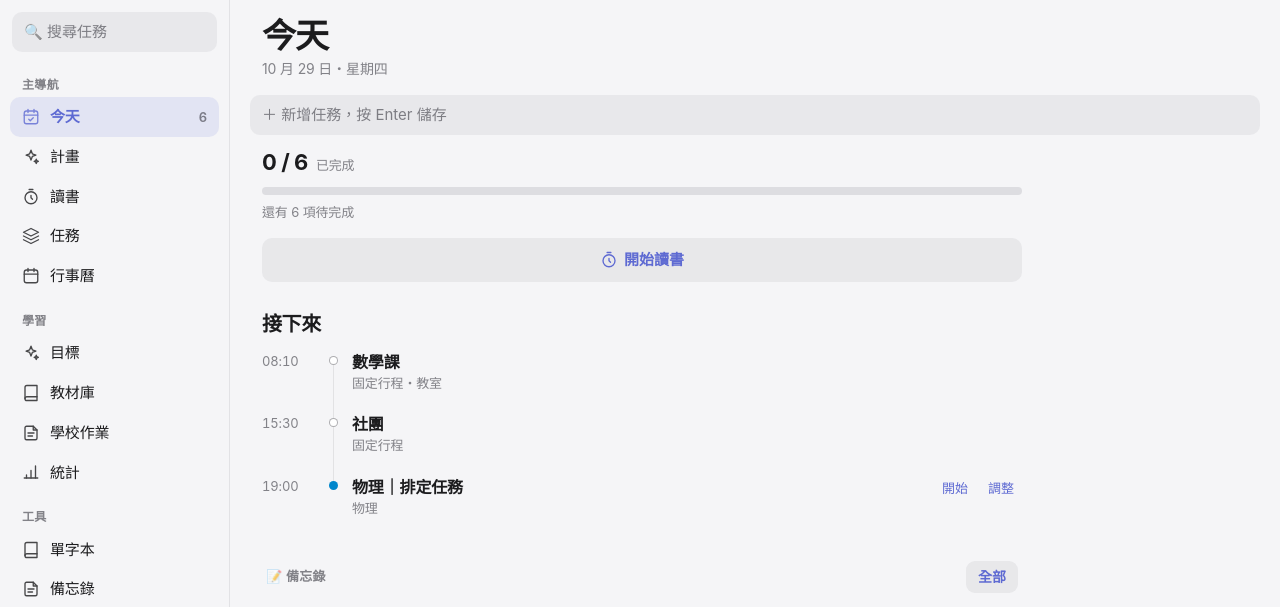
Test case: TodayView › P2-2：Today 從 ScheduledBlock 開始讀書，必須帶 task_id 與 scheduled_block_id
Check: the heading "今天" is shown, box [262,15,328,56]
Click the button with aria-label "開始讀「物理｜排定任務」" at (955, 488), box [934,477,976,500]
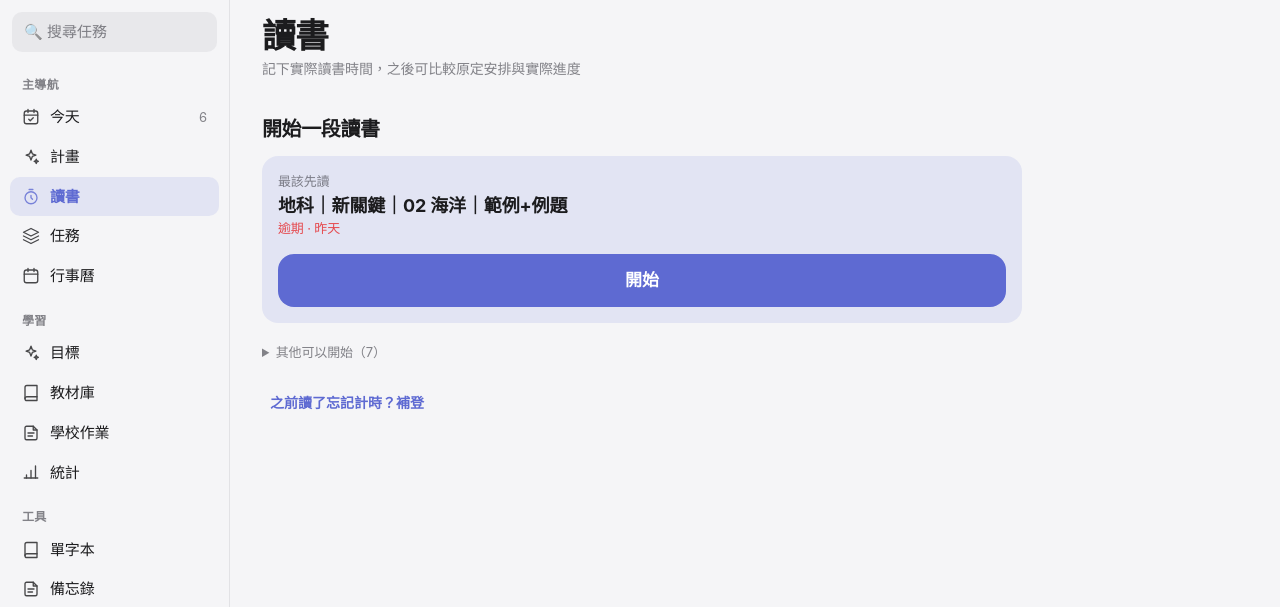
Check: the heading "讀書" is shown, box [262,15,328,56]
